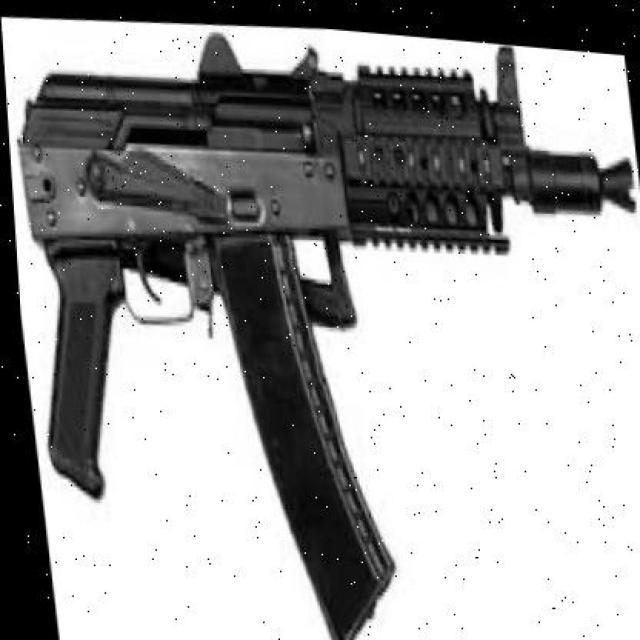weapon: (17, 31, 635, 640)
